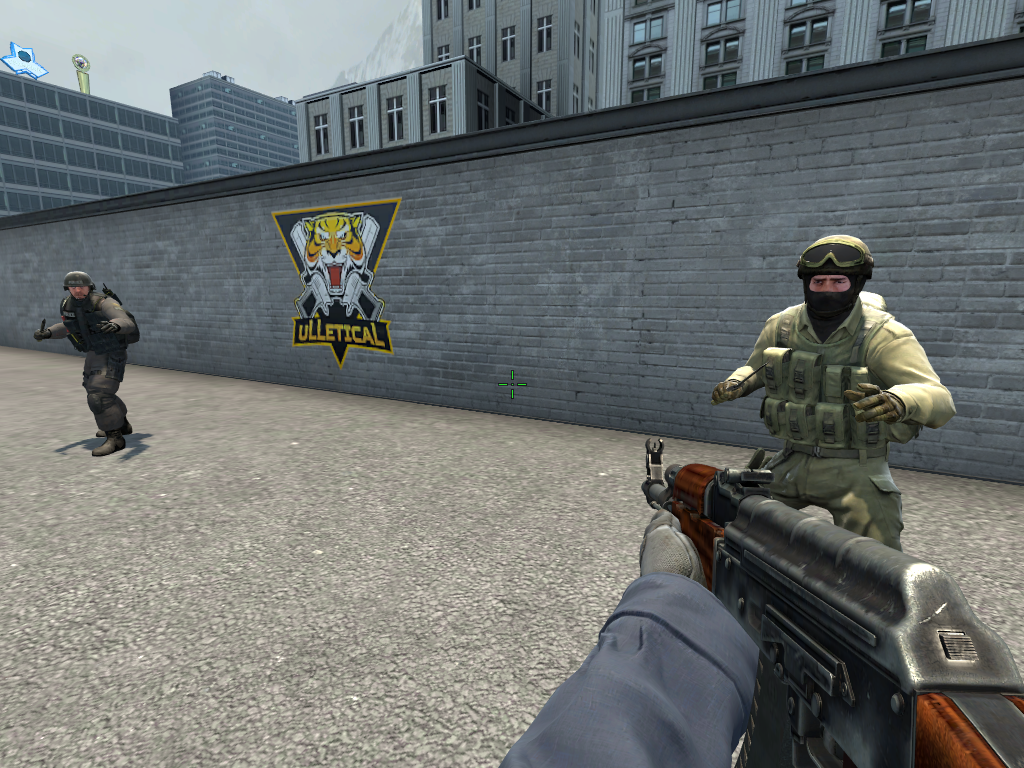ct head: (795, 232, 875, 318), (61, 267, 97, 305)
